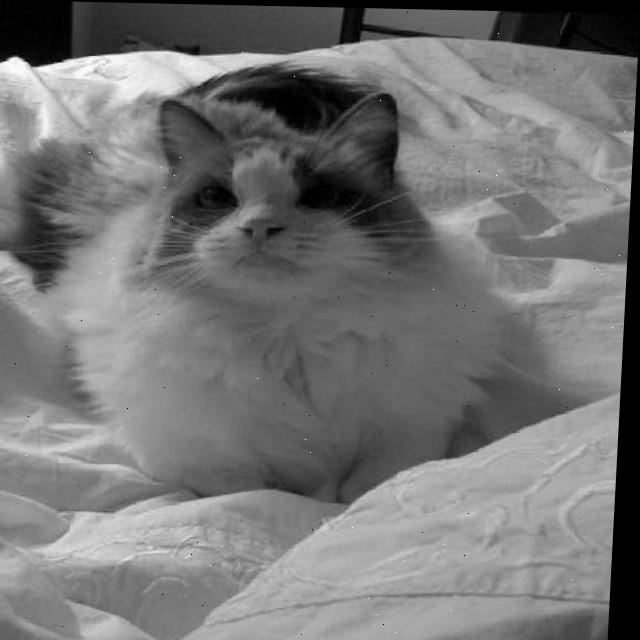Cat: (0, 61, 511, 505)
